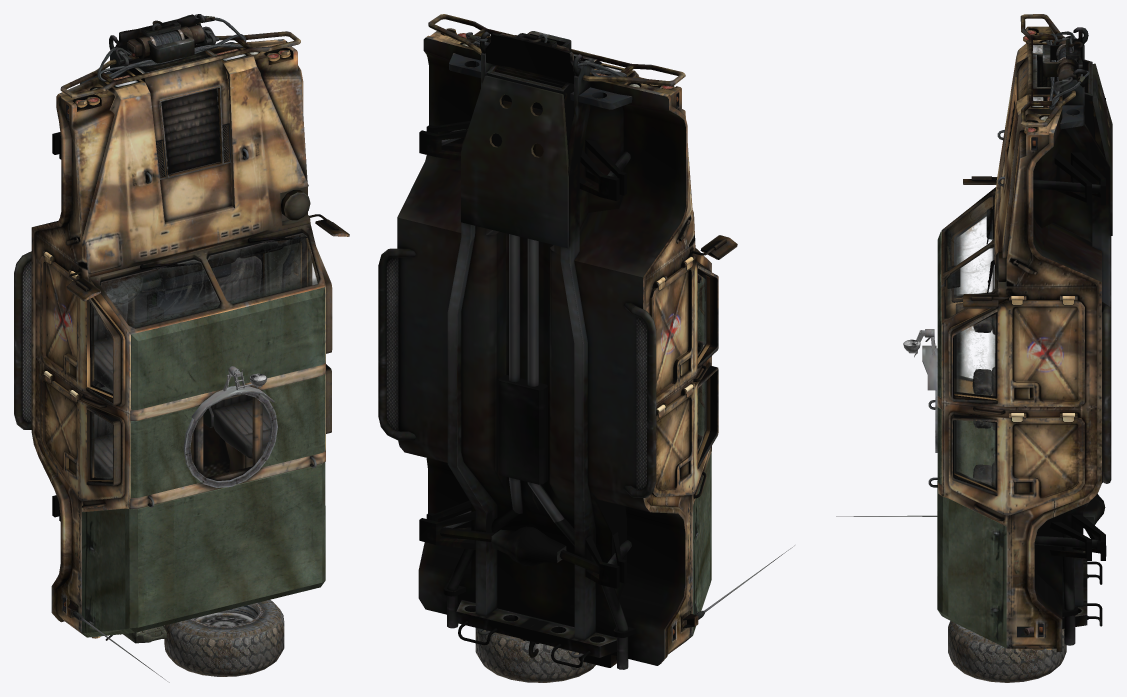
File: hummer.obj
3 views of the same model, side by side, from view 1: azimuth 30°, elevation 25°; view 2: azimuth 150°, elevation 25°; view 3: azimuth 270°, elevation 25° (orthographic). The views are drawn at different scales.
Parts seen in each view (by area): view 1: ltv.002; view 2: ltv.002; view 3: ltv.002.
Part boxes in pixels (x1,y1,x2,y2): ltv.002: (14, 14, 349, 682); ltv.002: (378, 14, 794, 682); ltv.002: (836, 14, 1112, 682).
Bounding box in the file's own units: 2.44 × 5.38 × 2.32.
Materials: 33 (33 with a texture image).
